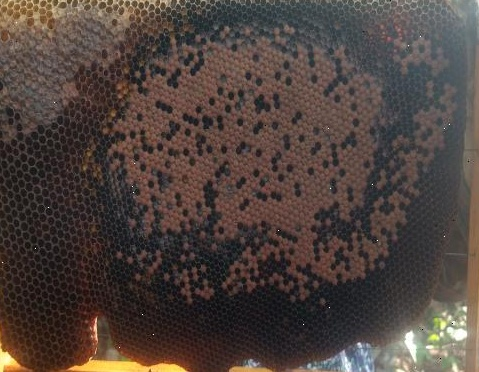cria: (104, 13, 401, 305), (313, 36, 457, 285)
